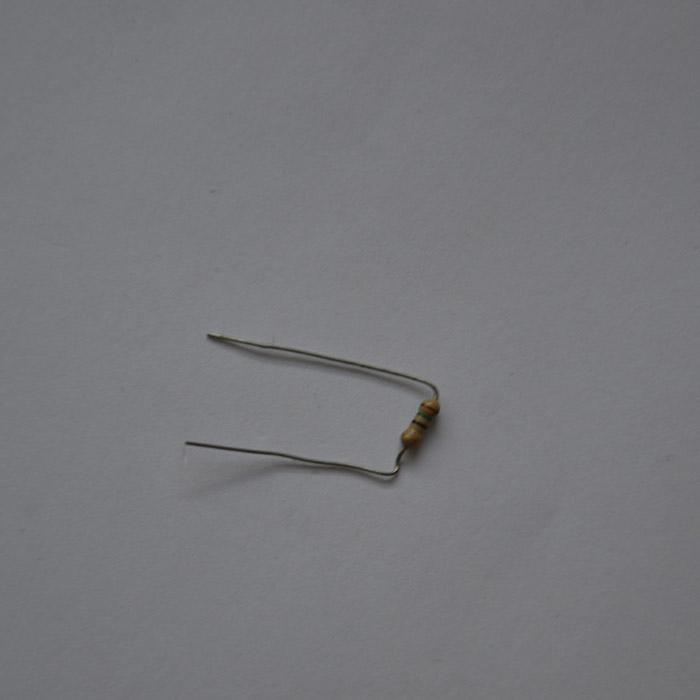resistor: (400, 396, 439, 448)
